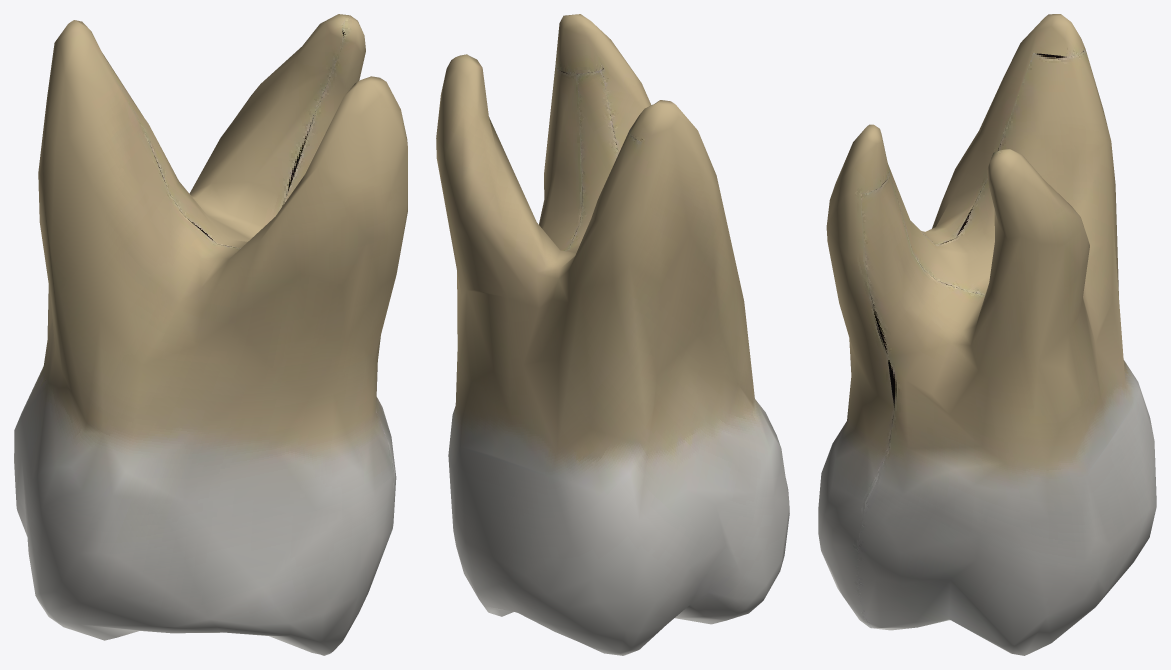
File: maxillary_first_molar.glb
The picture shows the model from 3 angles, left to right: view 1: azimuth 30°, elevation 25°; view 2: azimuth 150°, elevation 25°; view 3: azimuth 270°, elevation 25°; orthographic projection. The views are drawn at different scales.
Parts seen in each view (by area): view 1: Object_2; view 2: Object_2; view 3: Object_2.
Boxes of the visible parts, x1=… form: Object_2: x1=14, y1=14, x2=407, y2=655; Object_2: x1=436, y1=14, x2=789, y2=655; Object_2: x1=818, y1=14, x2=1156, y2=655.
Size of the model in its own units: 0.4506 by 0.7769 by 0.4296.
1 material, 1 textured.
